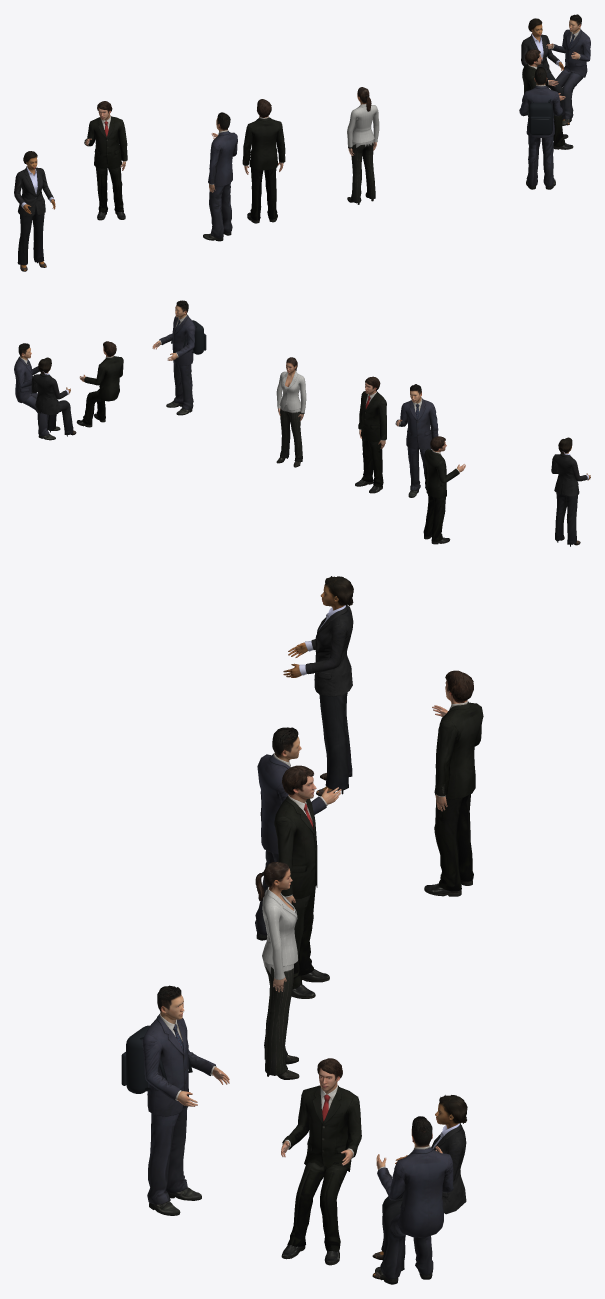
Rendered from projection-visitors-v4.glb.
3 renders of one model, top to bottom at view 1: azimuth 30°, elevation 25°; view 2: azimuth 150°, elevation 25°; view 3: azimuth 270°, elevation 25°, orthographic. The views are drawn at different scales.
Parts seen in each view (by area): view 1: Projection visitor | Business_Male_01 | idle part 0, Projection visitor | Business_Male_01 | talk part 0, Projection visitor | Business_Female_01 | operator part 0, Projection visitor | Business_Male_02 | talk part 0, Projection visitor | Business_Female_04 | idle part 0, Projection visitor | Business_Male_02 | operator part 0, Projection visitor | Business_Male_02 | projection-seated pa, Projection visitor | Business_Female_01 | projection-seated , Projection visitor | Business_Male_01 | projection-seated pa, Rocketbox fitted black backpack main body, Rocketbox backpack exterior zip pocket; view 2: Projection visitor | Business_Male_01 | idle part 0, Projection visitor | Business_Male_02 | talk part 0, Projection visitor | Business_Male_02 | operator part 0, Projection visitor | Business_Female_04 | idle part 0, Projection visitor | Business_Female_01 | operator part 0, Projection visitor | Business_Male_01 | talk part 0, Projection visitor | Business_Male_01 | projection-seated pa, Projection visitor | Business_Female_01 | projection-seated , Projection visitor | Business_Male_02 | projection-seated pa; view 3: Projection visitor | Business_Male_02 | operator part 0, Projection visitor | Business_Male_01 | projection-seated pa, Projection visitor | Business_Male_01 | talk part 0, Projection visitor | Business_Male_02 | projection-seated pa, Projection visitor | Business_Female_01 | operator part 0, Projection visitor | Business_Male_01 | idle part 0, Projection visitor | Business_Female_04 | idle part 0, Projection visitor | Business_Male_02 | talk part 0, Projection visitor | Business_Female_01 | projection-seated , Rocketbox fitted black backpack main body.
Part boxes in pixels (left/top/right/bottom): Projection visitor | Business_Male_01 | idle part 0: left=242, top=99, right=285, bottom=223; Projection visitor | Business_Male_01 | talk part 0: left=84, top=101, right=127, bottom=220; Projection visitor | Business_Female_01 | operator part 0: left=14, top=151, right=55, bottom=271; Projection visitor | Business_Male_02 | talk part 0: left=203, top=112, right=237, bottom=241; Projection visitor | Business_Female_04 | idle part 0: left=347, top=87, right=379, bottom=204; Projection visitor | Business_Male_02 | operator part 0: left=519, top=67, right=562, bottom=189; Projection visitor | Business_Male_02 | projection-seated pa: left=546, top=14, right=590, bottom=125; Projection visitor | Business_Female_01 | projection-seated : left=521, top=18, right=569, bottom=125; Projection visitor | Business_Male_01 | projection-seated pa: left=522, top=49, right=573, bottom=149; Rocketbox fitted black backpack main body: left=528, top=102, right=552, bottom=135; Rocketbox backpack exterior zip pocket: left=530, top=116, right=550, bottom=134; Projection visitor | Business_Male_01 | idle part 0: left=355, top=376, right=386, bottom=493; Projection visitor | Business_Male_02 | talk part 0: left=395, top=384, right=438, bottom=497; Projection visitor | Business_Male_02 | operator part 0: left=152, top=300, right=195, bottom=415; Projection visitor | Business_Female_04 | idle part 0: left=276, top=357, right=306, bottom=467; Projection visitor | Business_Female_01 | operator part 0: left=551, top=437, right=590, bottom=546; Projection visitor | Business_Male_01 | talk part 0: left=423, top=436, right=465, bottom=544; Projection visitor | Business_Male_01 | projection-seated pa: left=76, top=341, right=123, bottom=427; Projection visitor | Business_Female_01 | projection-seated : left=31, top=357, right=76, bottom=436; Projection visitor | Business_Male_02 | projection-seated pa: left=14, top=343, right=60, bottom=440; Projection visitor | Business_Male_02 | operator part 0: left=142, top=985, right=229, bottom=1215; Projection visitor | Business_Male_01 | projection-seated pa: left=281, top=1058, right=361, bottom=1265; Projection visitor | Business_Male_01 | talk part 0: left=424, top=670, right=483, bottom=896; Projection visitor | Business_Male_02 | projection-seated pa: left=375, top=1116, right=453, bottom=1284; Projection visitor | Business_Female_01 | operator part 0: left=283, top=576, right=353, bottom=796; Projection visitor | Business_Male_01 | idle part 0: left=274, top=765, right=329, bottom=998; Projection visitor | Business_Female_04 | idle part 0: left=255, top=862, right=299, bottom=1079; Projection visitor | Business_Male_02 | talk part 0: left=255, top=727, right=341, bottom=940; Projection visitor | Business_Female_01 | projection-seated : left=372, top=1095, right=467, bottom=1279; Rocketbox fitted black backpack main body: left=126, top=1025, right=149, bottom=1093.
Size of the model in its own units: 8.98 by 1.72 by 2.58.
14 materials, 12 textured.
